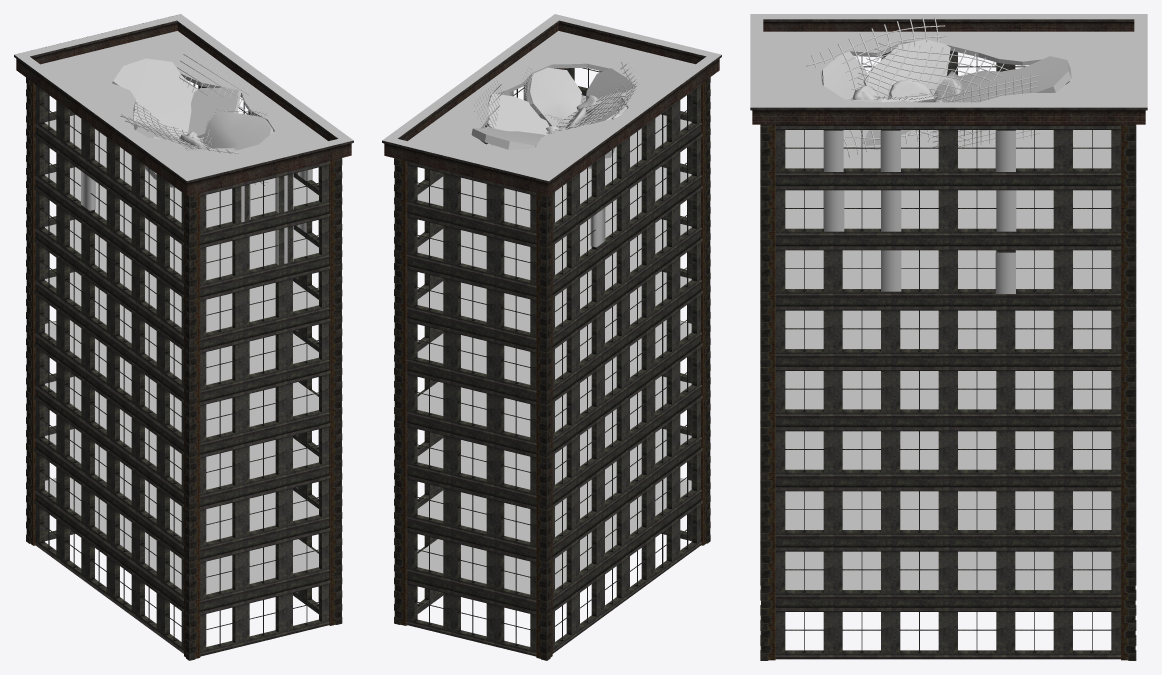
The model's file is BuildingGreyBig01.fbx.
The picture shows the model from 3 angles, left to right: view 1: azimuth 30°, elevation 25°; view 2: azimuth 150°, elevation 25°; view 3: azimuth 270°, elevation 25°; orthographic projection. The views are drawn at different scales.
Visible parts, largest first — view 1: Cube.687, Cube.746, Cube.745, Cube.748, Cube.750; view 2: Cube.687, Cube.746, Cube.745, Cube.750, Cube.748, Cube.759; view 3: Cube.687, Cube.746, Cube.745, Cube.750, Cube.749, Cube.748, Cube.757, Cube.751, Cube.752, Cube.753, Cube.754, Cube.755 (+2 smaller).
Part boxes in pixels (x1,y1,x2,y2): Cube.687: (26,77,342,660); Cube.746: (41,31,327,187); Cube.745: (14,14,353,195); Cube.748: (177,51,248,140); Cube.750: (133,102,211,148); Cube.687: (394,68,710,660); Cube.746: (403,31,695,180); Cube.745: (382,14,721,195); Cube.750: (545,92,626,135); Cube.748: (473,80,503,146); Cube.759: (590,207,605,247); Cube.687: (760,50,1136,660); Cube.746: (763,31,1134,145); Cube.745: (750,14,1147,124); Cube.750: (857,39,1008,147); Cube.749: (806,16,961,157); Cube.748: (932,72,1039,147); Cube.757: (995,250,1015,293); Cube.751: (996,190,1016,231); Cube.752: (995,130,1015,171); Cube.753: (881,190,901,231); Cube.754: (880,130,900,171); Cube.755: (824,190,844,231).
Size of what is drawn, in the model's own units: 1360 by 3855 by 2440.
